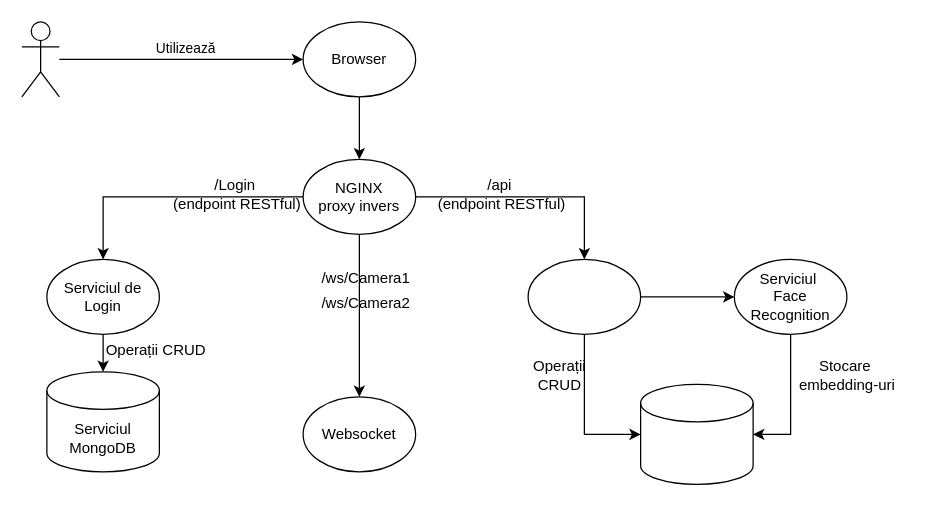
Image size: 931x506. Some labels were removed from this diagram. Each missing label, with the centre of its shape:
"Actor" belongs at (40,59).
"Server API" belongs at (584,296).
"Serviciul SeaweedFS" belongs at (696,433).
